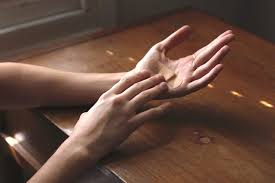palm: (145, 59, 187, 96)
